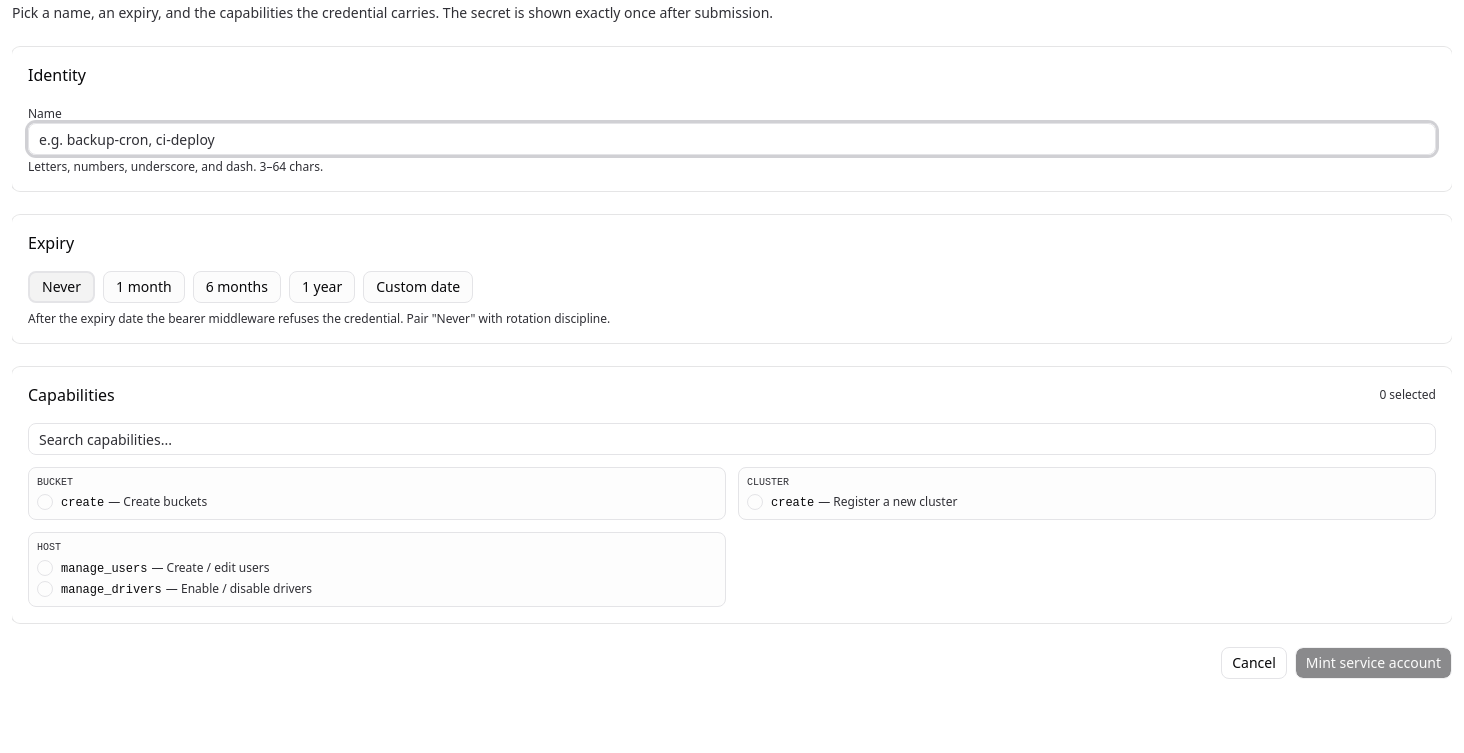
Test case: NewServiceAccountPage (/admin/service-accounts/new) › gates submit until a name and at least one capability are picked
Expected: the button with test id "sa-submit-button" is disabled, x1=1295 y1=647 x2=1452 y2=679
Step 1. Type "test-cli" into the field with test id "sa-name-input" → (732, 139), box x1=28 y1=123 x2=1436 y2=155
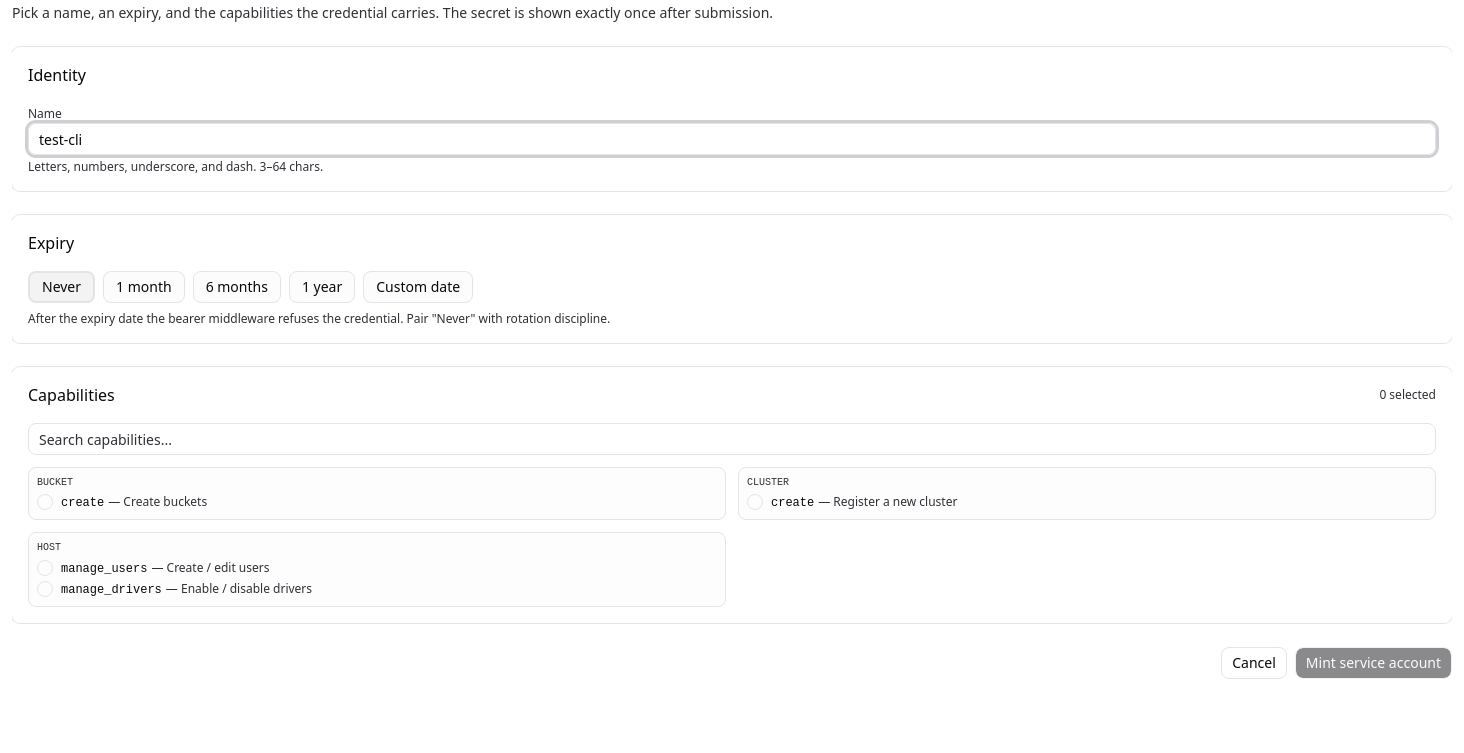
Expected: the button with test id "sa-submit-button" is disabled, x1=1295 y1=647 x2=1452 y2=679
Step 2. Click the checkbox with test id "cap-checkbox-host:manage_users" → (45, 568), box x1=37 y1=560 x2=53 y2=576
(page scrolled)
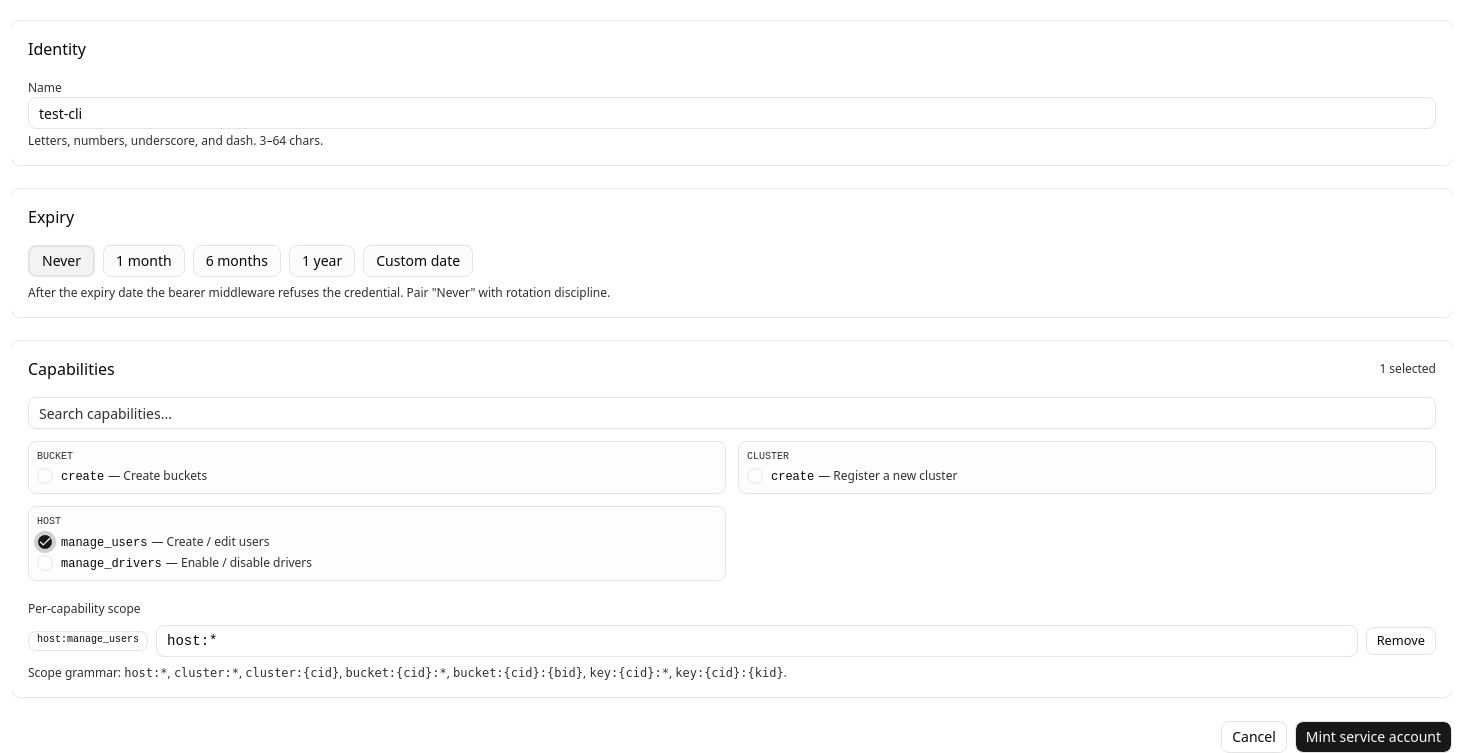
Expected: the button with test id "sa-submit-button" is enabled, x1=1295 y1=721 x2=1452 y2=752
